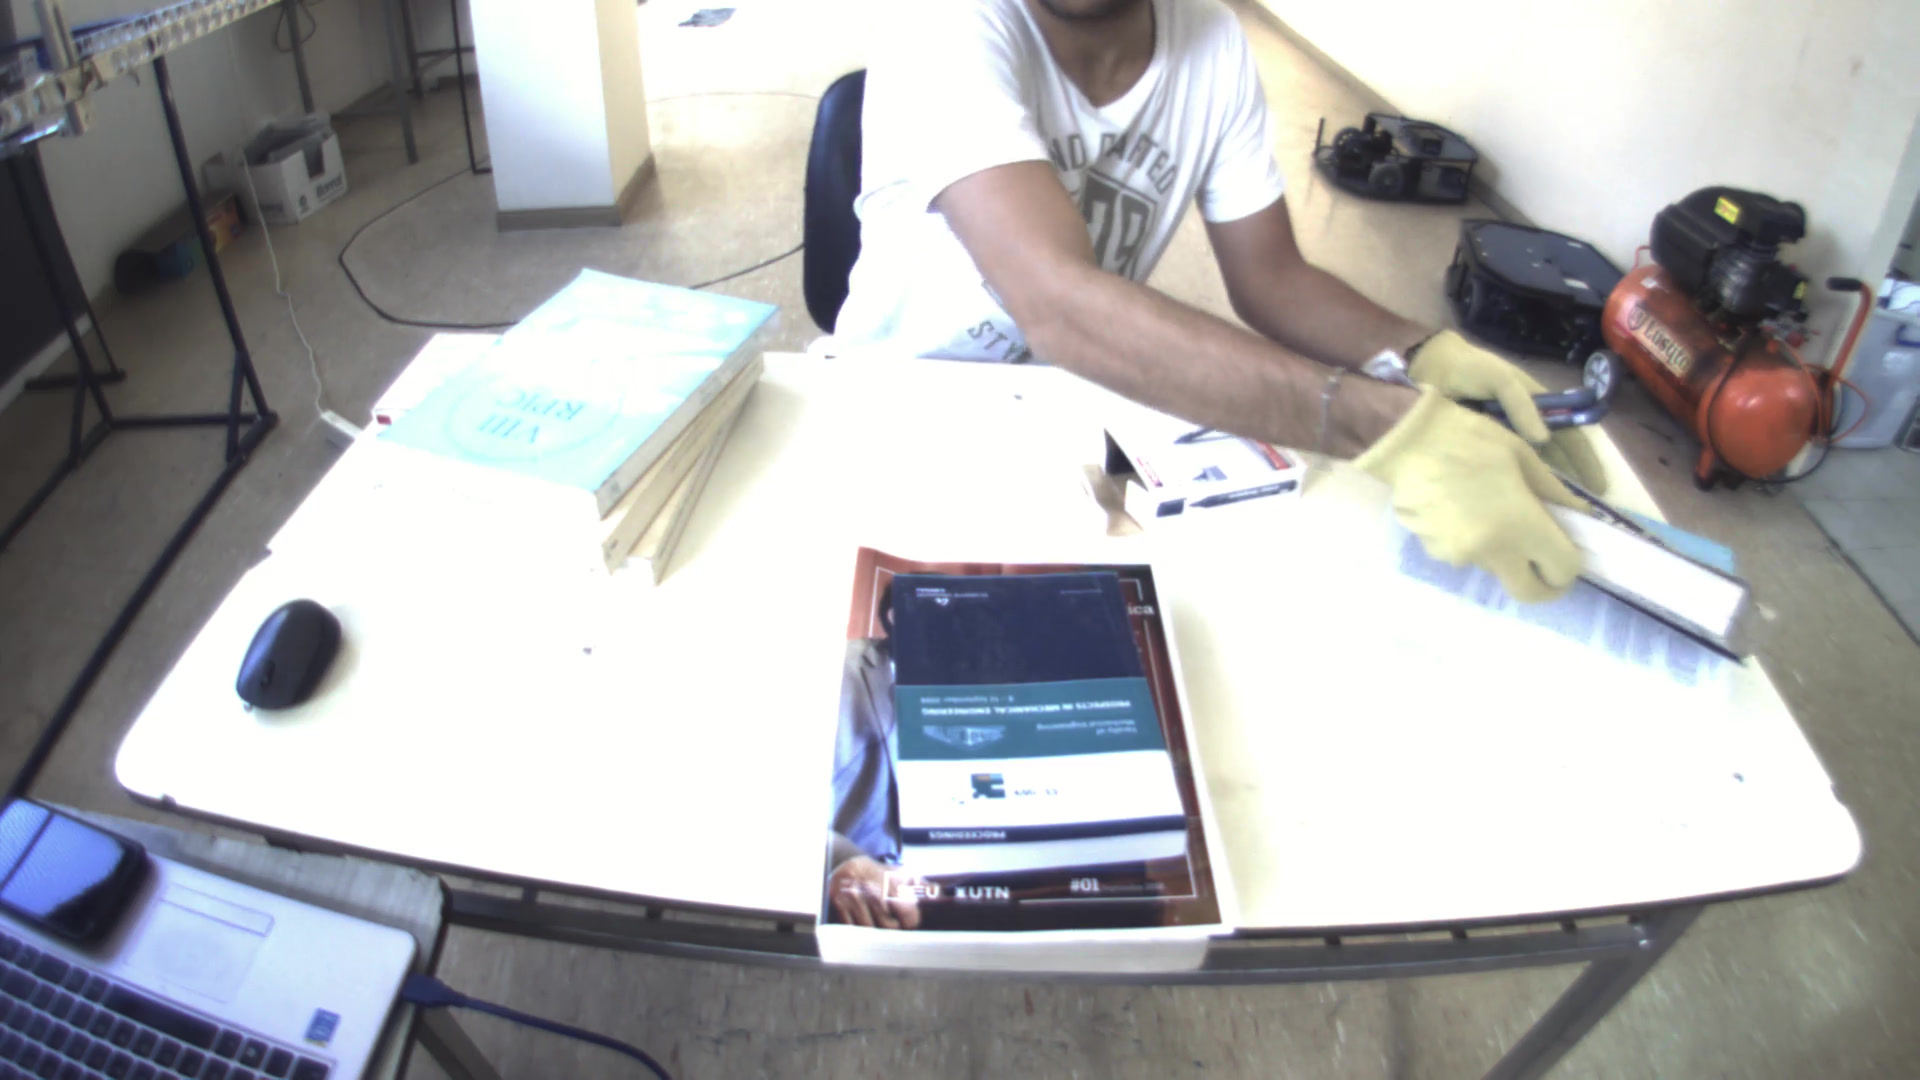hand: (1360, 373, 1594, 607), (1400, 320, 1614, 504)
